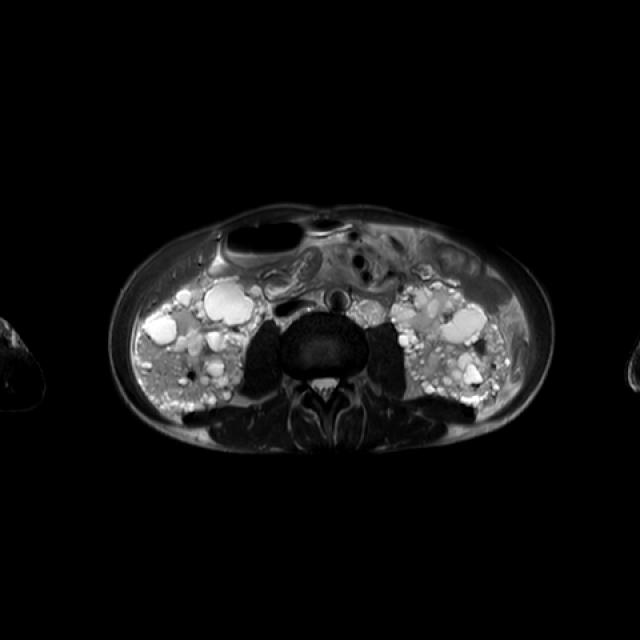sag: (138, 273, 265, 412)
sol: (395, 281, 511, 404)
